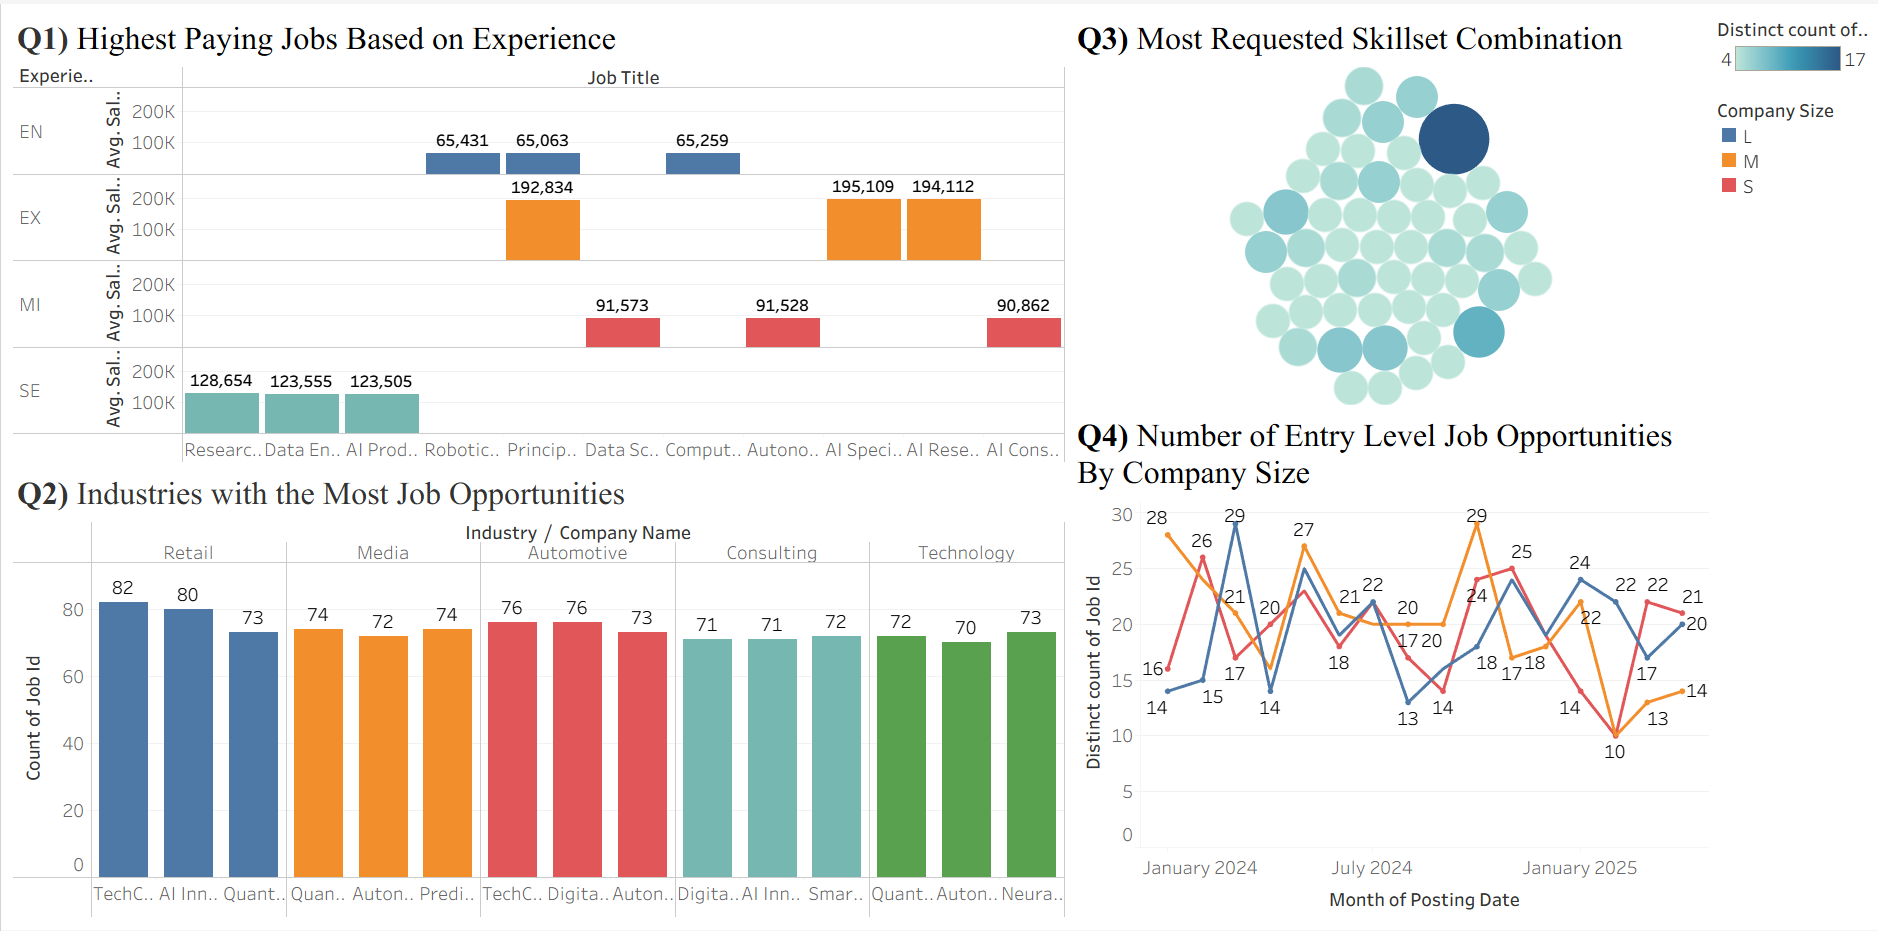

What the dashboard file says about the page in this screenshot:
{"tool":"tableau","page":{"name":"DataWorks Final Challenge","canvas":[1000,1000],"units":"permille","ordinal":0},"visuals":[{"type":"worksheet","title":"Q1)","mark":"Automatic","rows":["experience_level","salary_usd"],"cols":["job_title"],"box":[4.9,8.6,553.7,491.4]},{"type":"worksheet","title":"Q3)","mark":"Circle","box":[558.6,8.6,336.5,428.7]},{"type":"legend","title":"Q3)","param":"[federated.1haorb01bbefyv0zyk9621i8tapi].[ctd:job_id:qk]","box":[895.1,8.6,100,87.4]},{"type":"legend","title":"Q4)","param":"[federated.1haorb01bbefyv0zyk9621i8tapi].[none:company_size:nk]","box":[895.1,96,100,117.6]},{"type":"worksheet","title":"Q4)","mark":"Line","rows":["job_id"],"cols":["posting_date"],"box":[558.6,437.4,336.5,554]},{"type":"worksheet","title":"Q2)","mark":"Bar","rows":["job_id"],"cols":["industry","company_name"],"box":[4.9,500,553.7,491.4]}]}

Visuals, with their boxes on the dashboard's canvas, which has no fixed pixel size, in thousandths of its width and height (x1, y1, x2, y2). These are canvas units, not pixel positions in the 1878x931 screenshot, which may show the page scaled, cropped or inside an application window:
"Q1)" worksheet: <box>5,9,559,500</box>
"Q3)" worksheet (Circle marks): <box>559,9,895,437</box>
"Q3)" legend: <box>895,9,995,96</box>
"Q4)" legend: <box>895,96,995,214</box>
"Q4)" worksheet (Line marks): <box>559,437,895,991</box>
"Q2)" worksheet (Bar marks): <box>5,500,559,991</box>
